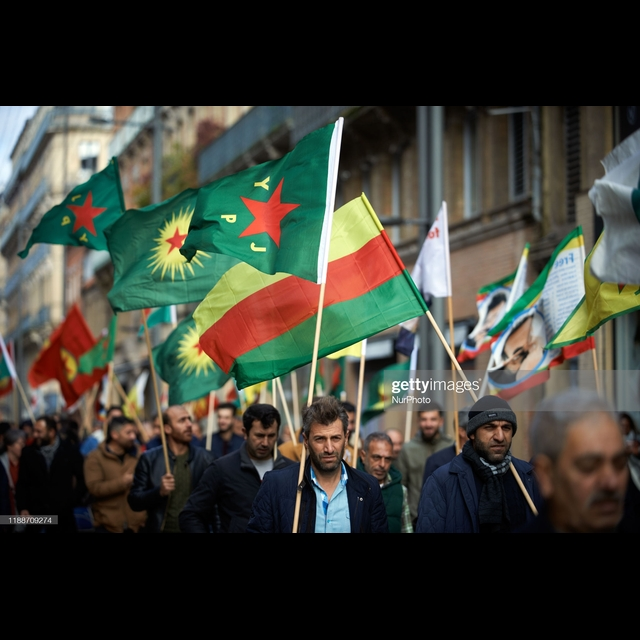KCK: (145, 212, 216, 284)
YPJ: (216, 176, 306, 257), (58, 191, 104, 244)
